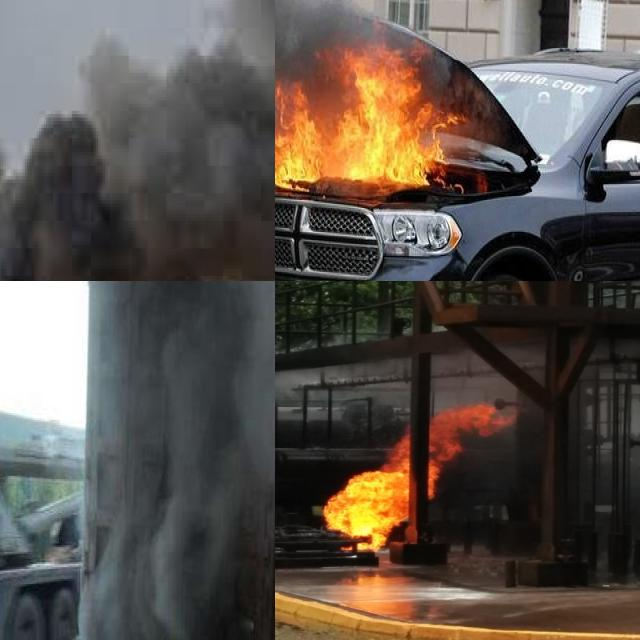fire: (275, 1, 471, 205), (320, 404, 502, 554)
smoke: (0, 0, 275, 281), (79, 281, 275, 640), (275, 0, 328, 171)
